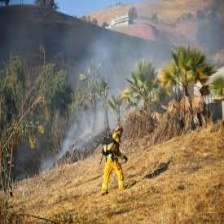smoke: (90, 26, 148, 65), (65, 103, 105, 146)
